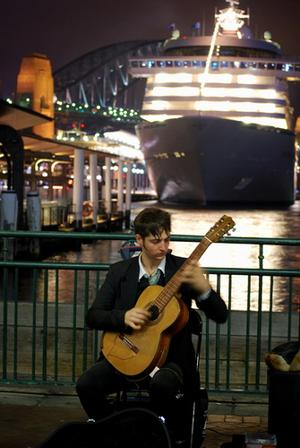person: (74, 207, 229, 446)
